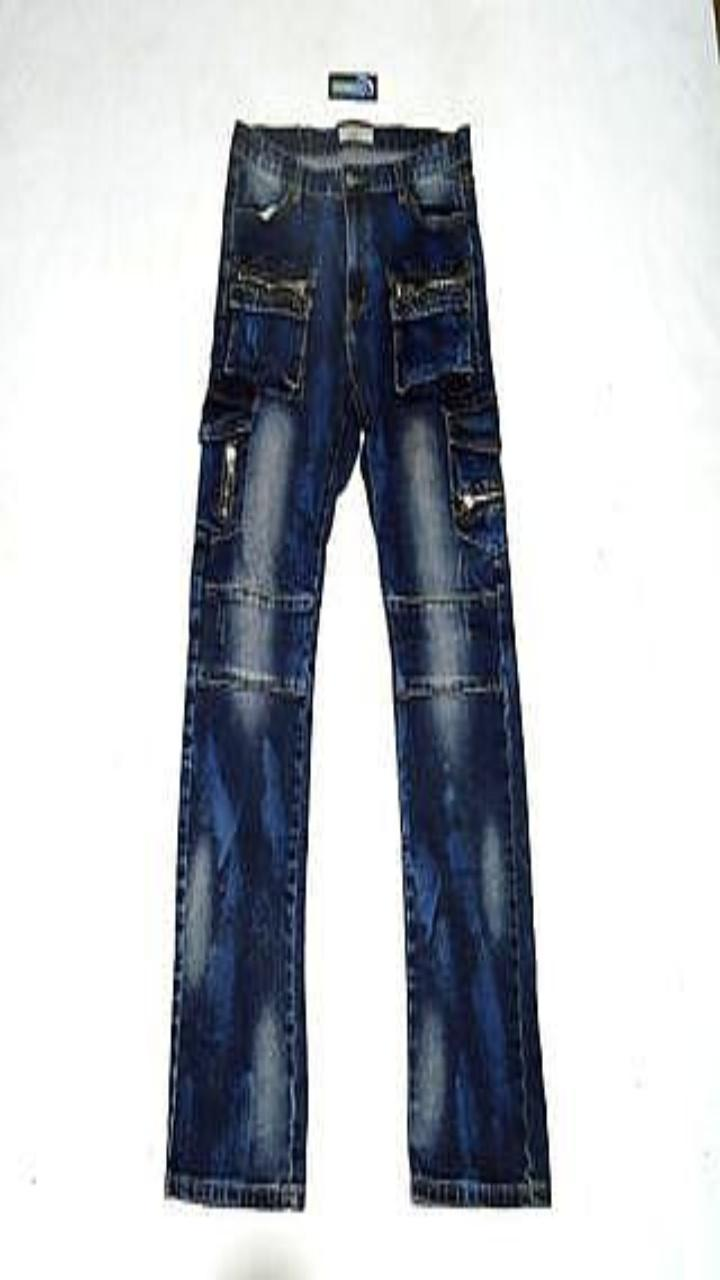Jeans: (165, 120, 550, 1208)
